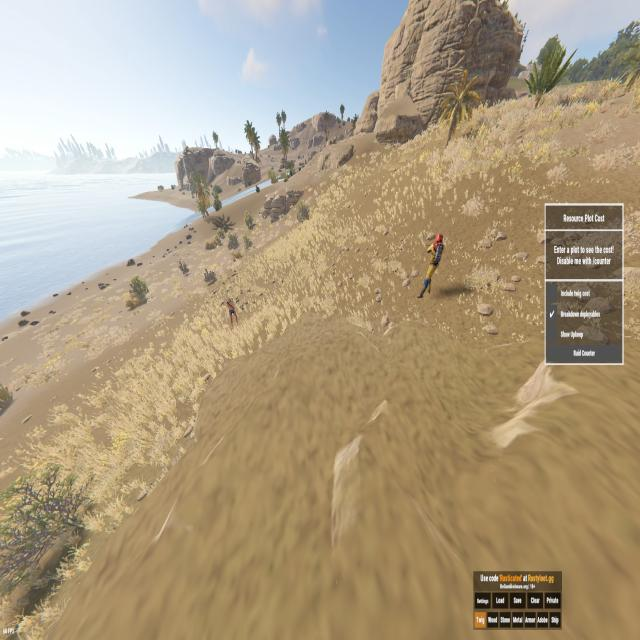Player: (417, 233, 445, 298), (227, 297, 238, 328)
